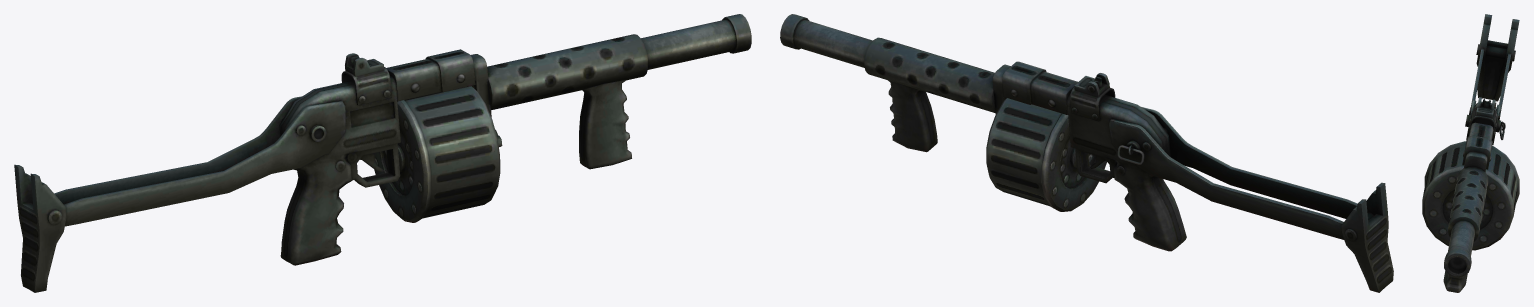
Rendered from Weapon_2007.fbx.
3 views of the same model, side by side, from view 1: azimuth 30°, elevation 25°; view 2: azimuth 150°, elevation 25°; view 3: azimuth 270°, elevation 25° (orthographic). The views are drawn at different scales.
Visible parts, largest first — view 1: base, clip; view 2: base, clip; view 3: base, clip.
Part boxes in pixels (left/top/right/bottom): base: left=14, top=14, right=751, bottom=292; clip: left=374, top=86, right=500, bottom=222; base: left=780, top=14, right=1393, bottom=292; clip: left=986, top=98, right=1106, bottom=211; base: left=1443, top=14, right=1519, bottom=292; clip: left=1422, top=141, right=1519, bottom=250.
Bounding box in the file's own units: 119 × 29.72 × 19.9.
